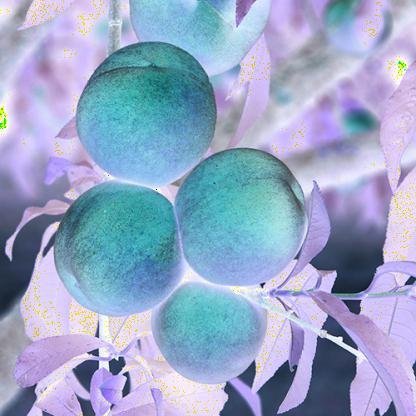peach leaf: (307, 287, 415, 415), (265, 180, 338, 296), (7, 329, 119, 385), (235, 35, 278, 158), (378, 64, 415, 192), (1, 196, 72, 257)
